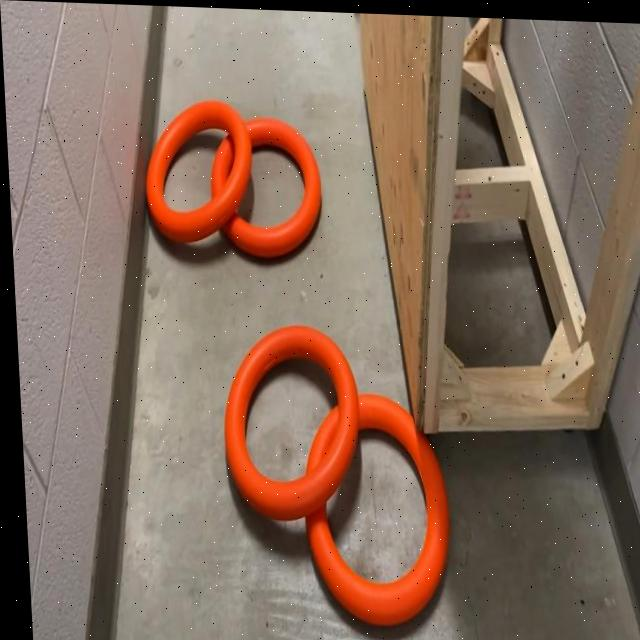note: (296, 388, 450, 626), (215, 316, 361, 522), (141, 95, 255, 246), (206, 113, 321, 261)
